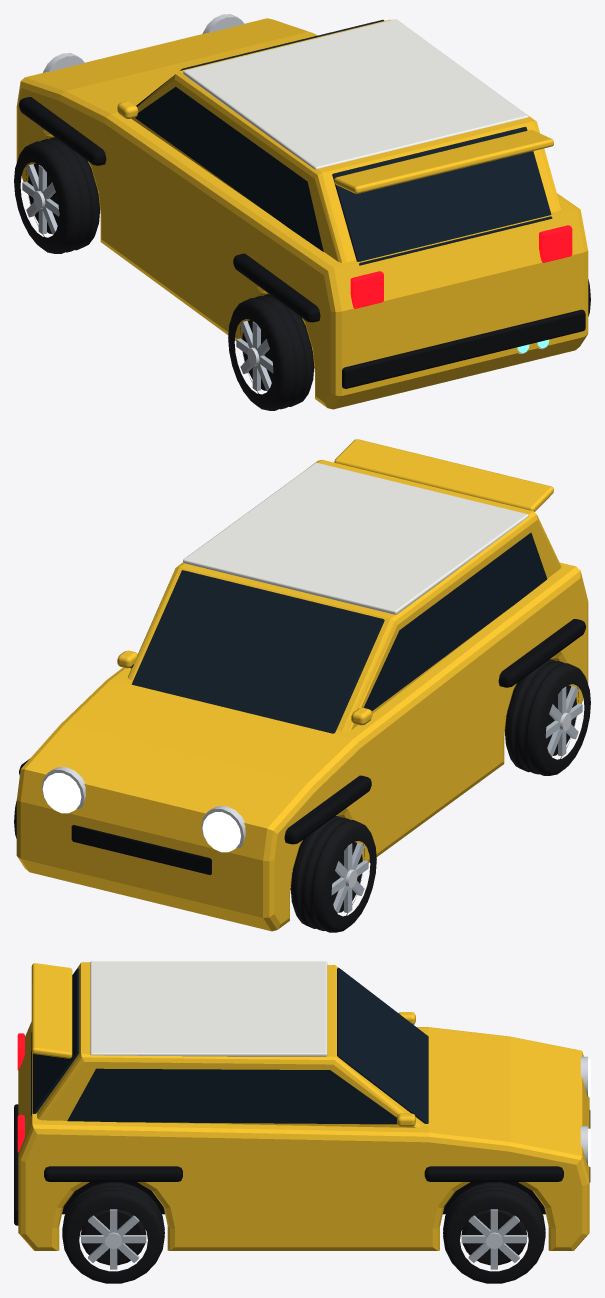
File: pixel-hatch.glb
3 views of the same model, one above another, from view 1: azimuth 30°, elevation 25°; view 2: azimuth 150°, elevation 25°; view 3: azimuth 270°, elevation 25° (orthographic). The views are drawn at different scales.
Parts seen in each view (by area): view 1: Body, Roof, RearWindow, Tire (×2), SideGlass, Cabin, RearBumper, RoofSpoiler, FenderFlare (×2), TailLight (×2), Windscreen; view 2: Body, Roof, Windscreen, Tire (×2), SideGlass, Cabin, RoofSpoiler, FenderFlare (×2), Grille, Headlight (×2); view 3: Body, Roof, SideGlass, Tire (×2), Cabin, Windscreen, FenderFlare (×2), RoofSpoiler, RimDish (×2), RearWindow, WheelWell (×2), Spoke (×2) (+1 smaller).
Boxes of the visible parts, left/top/right/bottom form: Body: left=16, top=18, right=588, bottom=409; Roof: left=183, top=19, right=528, bottom=169; RearWindow: left=332, top=127, right=552, bottom=265; Tire (×2): left=14, top=137, right=314, bottom=410; SideGlass: left=135, top=87, right=323, bottom=251; Cabin: left=131, top=19, right=561, bottom=262; RearBumper: left=342, top=309, right=585, bottom=388; RoofSpoiler: left=334, top=130, right=553, bottom=193; FenderFlare (×2): left=19, top=97, right=320, bottom=322; TailLight (×2): left=350, top=225, right=572, bottom=308; Windscreen: left=136, top=19, right=384, bottom=106; Body: left=16, top=562, right=588, bottom=931; Roof: left=183, top=462, right=528, bottom=614; Windscreen: left=131, top=570, right=384, bottom=733; Tire (×2): left=290, top=659, right=590, bottom=932; SideGlass: left=363, top=532, right=547, bottom=710; Cabin: left=128, top=459, right=561, bottom=731; RoofSpoiler: left=334, top=439, right=553, bottom=511; FenderFlare (×2): left=284, top=619, right=585, bottom=844; Grille: left=71, top=825, right=211, bottom=874; Headlight (×2): left=42, top=773, right=240, bottom=852; Body: left=18, top=1022, right=589, bottom=1250; Roof: left=90, top=961, right=327, bottom=1056; SideGlass: left=67, top=1068, right=397, bottom=1124; Tire (×2): left=62, top=1182, right=545, bottom=1283; Cabin: left=37, top=962, right=420, bottom=1127; Windscreen: left=337, top=967, right=428, bottom=1123; FenderFlare (×2): left=44, top=1166, right=563, bottom=1181; RoofSpoiler: left=31, top=963, right=72, bottom=1058; RimDish (×2): left=80, top=1209, right=527, bottom=1265; RearWindow: left=31, top=968, right=79, bottom=1115; WheelWell (×2): left=62, top=1182, right=545, bottom=1214; Spoke (×2): left=81, top=1235, right=526, bottom=1243.
Size of the model in its own units: 2.21 by 1.61 by 3.94.
